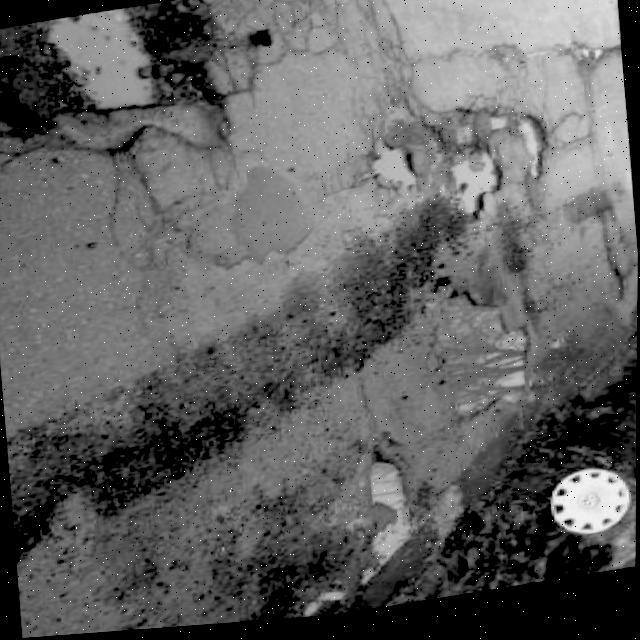pothole: (0, 0, 247, 151), (424, 284, 544, 438), (343, 455, 425, 593), (441, 148, 511, 229), (512, 116, 554, 194), (366, 144, 424, 200)
